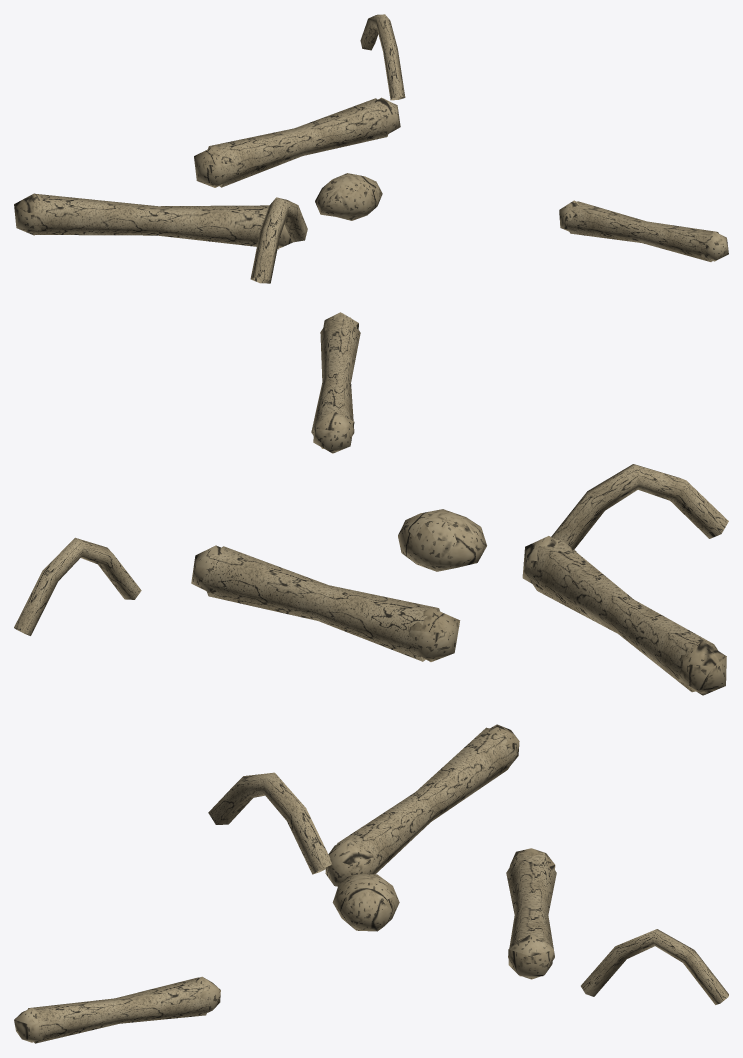
File: PROP_PC_Bones.fbx
3 renders of one model, top to bottom at view 1: azimuth 30°, elevation 25°; view 2: azimuth 150°, elevation 25°; view 3: azimuth 270°, elevation 25°, orthographic. The views are drawn at different scales.
Parts seen in each view (by area): view 1: PROP_PC_Bones; view 2: PROP_PC_Bones; view 3: PROP_PC_Bones.
Boxes of the visible parts, bbox=[...] form: PROP_PC_Bones: bbox=[14, 14, 728, 283]; PROP_PC_Bones: bbox=[14, 312, 728, 695]; PROP_PC_Bones: bbox=[14, 724, 728, 1043].
Size of the model in its own units: 3.74 by 0.5845 by 3.9.
